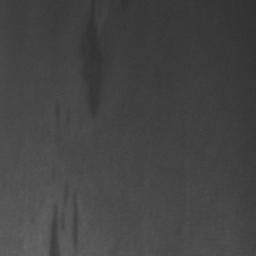Inclusion: (83, 0, 102, 118), (49, 206, 61, 256)
